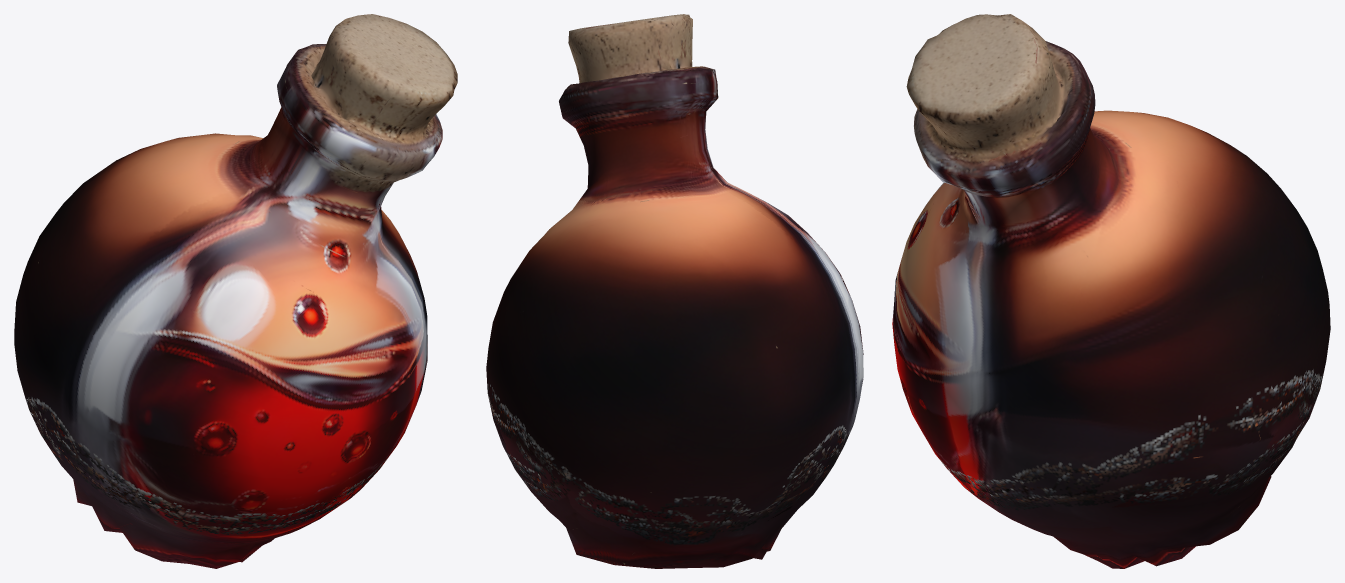
The model's file is BottleWithLiquid.fbx.
3 views of the same model, side by side, from view 1: azimuth 30°, elevation 25°; view 2: azimuth 150°, elevation 25°; view 3: azimuth 270°, elevation 25° (orthographic). The views are drawn at different scales.
Visible parts, largest first — view 1: RETOPO; view 2: RETOPO; view 3: RETOPO.
Part boxes in pixels (left/top/right/bottom): RETOPO: left=14, top=14, right=457, bottom=568; RETOPO: left=486, top=14, right=863, bottom=568; RETOPO: left=892, top=14, right=1330, bottom=568.
Bounding box in the file's own units: 56.16 × 81.53 × 56.88.
1 material, 1 textured.
